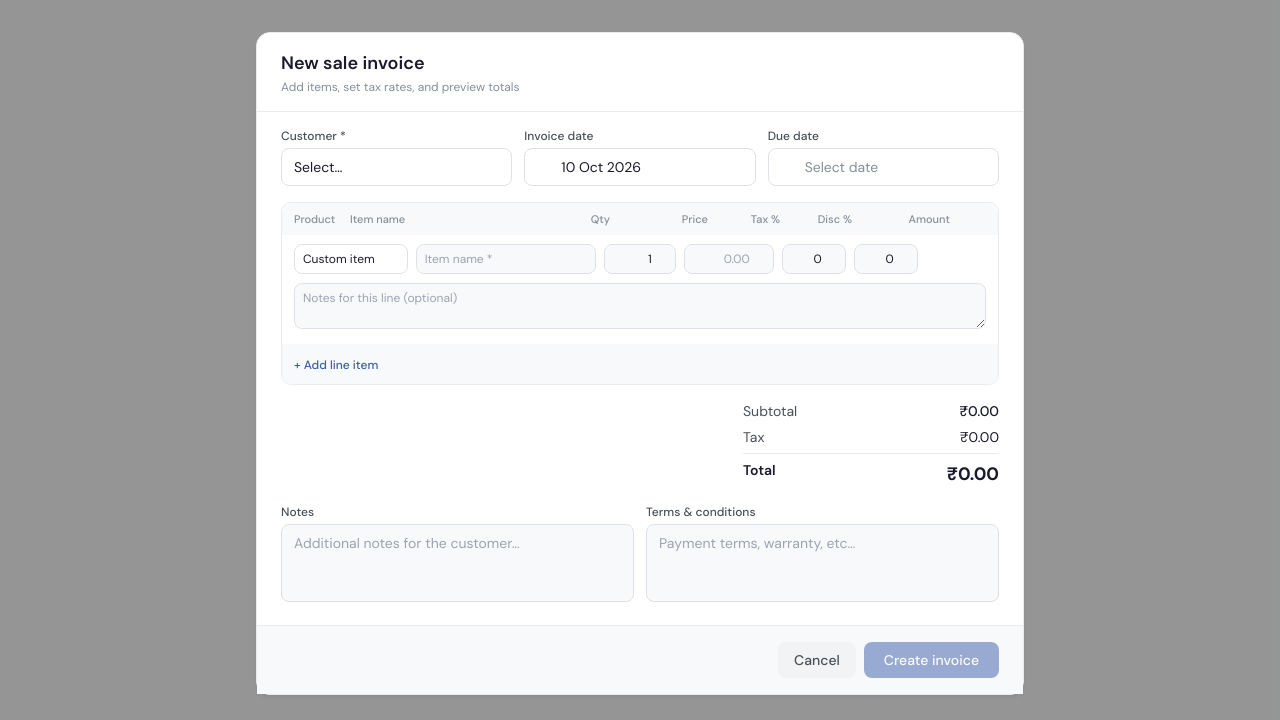
it: InvoiceCreator — invoice creation form with real-time GST calculations › form structure › renders the party dropdown pre-populated with parties from the API so the user can immediately select a customer
Note: The custom select lists its options once opened.
Click the dropdown named "customer": (397, 167) x1=281 y1=148 x2=512 y2=186
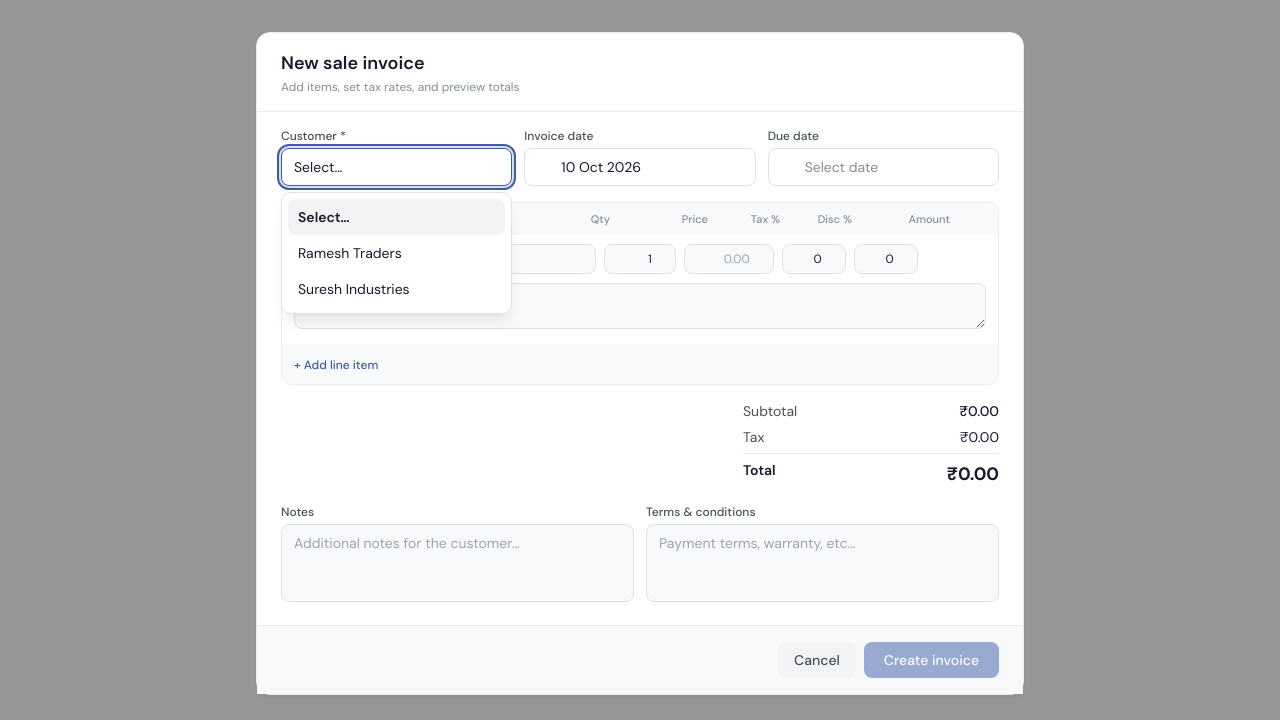
Check: the option "Ramesh Traders" is shown, box x1=298 y1=244 x2=402 y2=262
